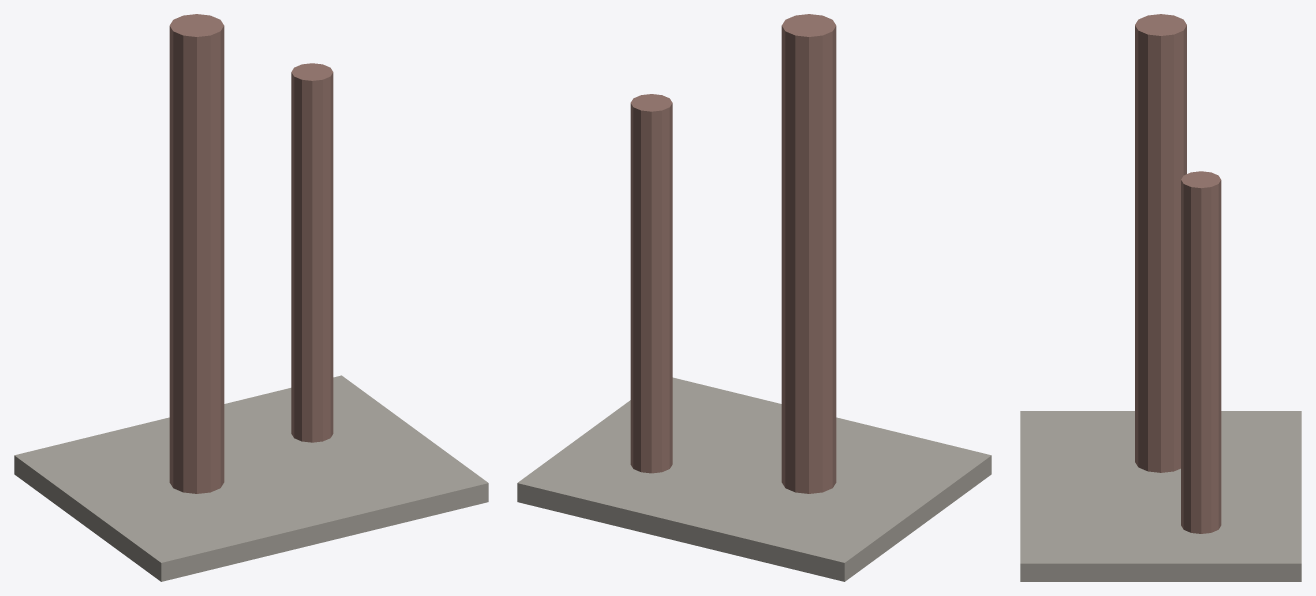
The model's file is ind_aux_chamine.glb.
3 renders of one model, left to right at view 1: azimuth 30°, elevation 25°; view 2: azimuth 150°, elevation 25°; view 3: azimuth 270°, elevation 25°, orthographic. The views are drawn at different scales.
Parts seen in each view (by area): view 1: ind_aux_chamine; view 2: ind_aux_chamine; view 3: ind_aux_chamine.
Part boxes in pixels (x1,y1,x2,y2): ind_aux_chamine: [14, 14, 488, 581]; ind_aux_chamine: [517, 14, 991, 581]; ind_aux_chamine: [1020, 14, 1301, 581].
Bounding box in the file's own units: 0.36 × 0.5 × 0.28.
